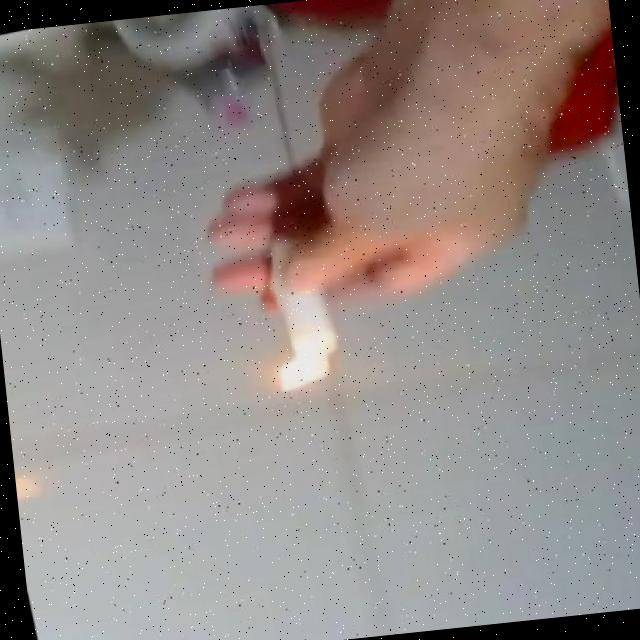fire: (261, 350, 340, 406)
